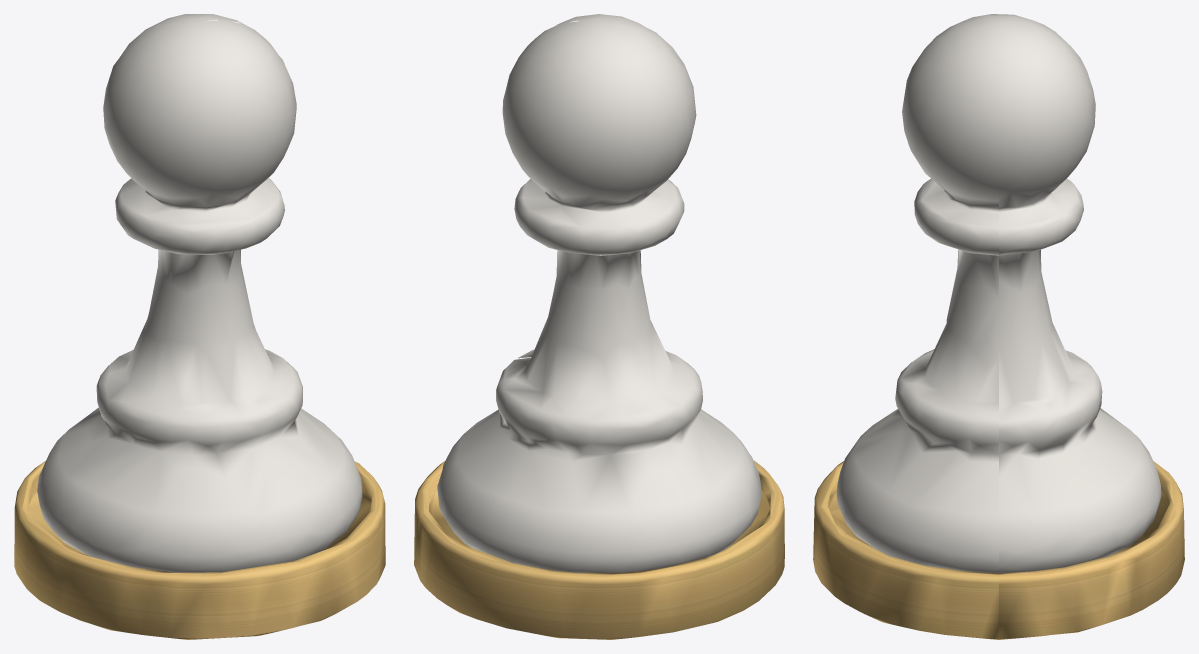
File: aurum_pawn_white.glb
3 views of the same model, side by side, from view 1: azimuth 30°, elevation 25°; view 2: azimuth 150°, elevation 25°; view 3: azimuth 270°, elevation 25° (orthographic).
Parts seen in each view (by area): view 1: Aurum Ivoire – Pawn; view 2: Aurum Ivoire – Pawn; view 3: Aurum Ivoire – Pawn.
Part boxes in pixels (x1,y1,x2,y2): Aurum Ivoire – Pawn: (14,14,385,639); Aurum Ivoire – Pawn: (414,14,784,639); Aurum Ivoire – Pawn: (813,14,1184,639).
Size of the model in its own units: 0.0362 by 0.058 by 0.0362.
Materials: 2 (1 with a texture image).
